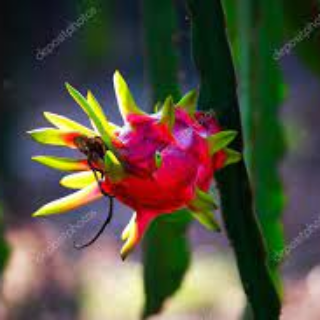thanh_long: (46, 74, 246, 241)
